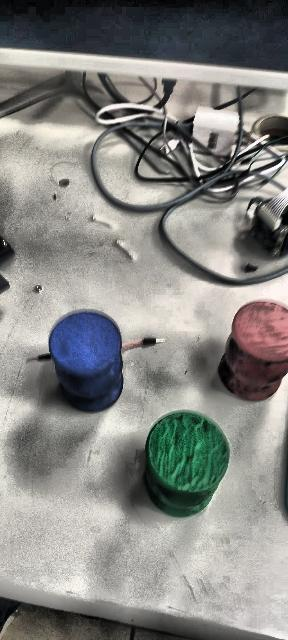blue: (48, 310, 124, 412)
green: (143, 410, 229, 518)
red: (216, 299, 288, 402)
